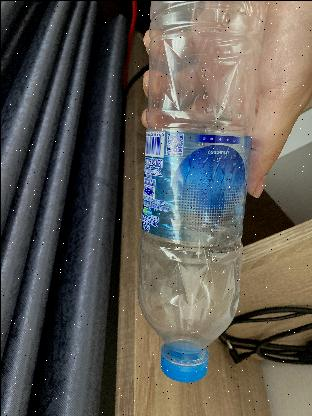Plastic Bottle: (132, 0, 252, 386)
